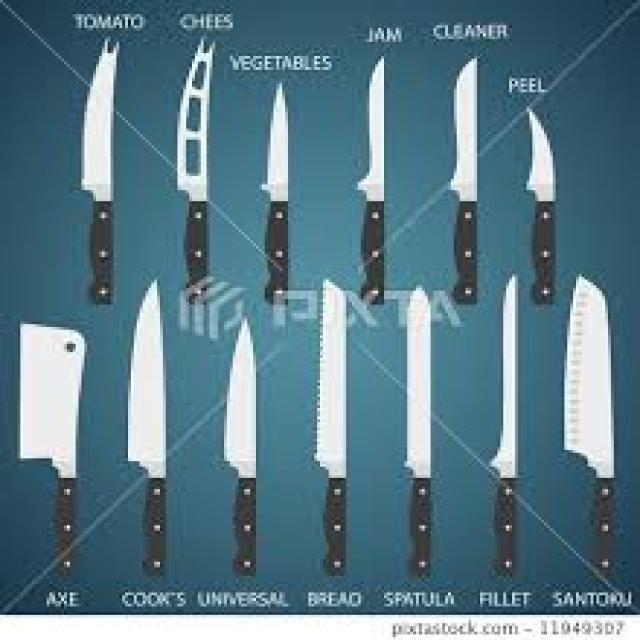Knife: (561, 274, 617, 581), (17, 322, 84, 578), (125, 276, 166, 576), (79, 36, 119, 302), (175, 36, 215, 302), (314, 276, 346, 576), (221, 313, 256, 576), (489, 274, 518, 576), (404, 282, 430, 578), (355, 56, 384, 305), (448, 56, 477, 302), (524, 106, 556, 305), (262, 81, 288, 302)
